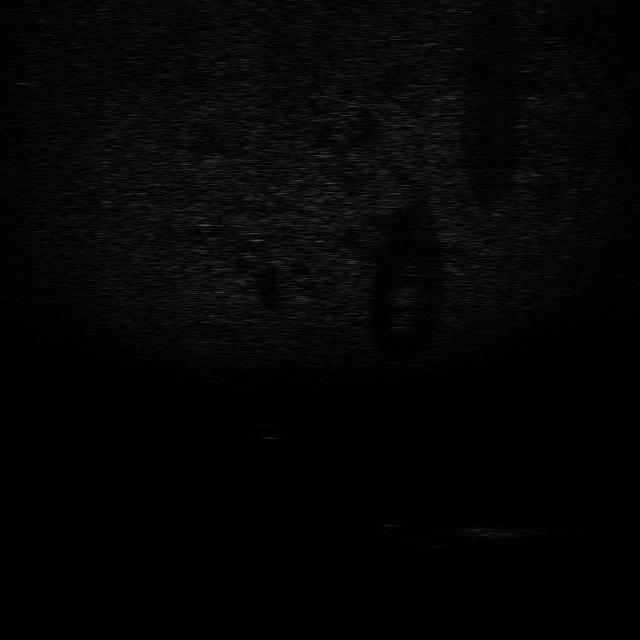ball: (249, 419, 289, 442)
metal bucket: (454, 526, 546, 547)
tyre: (369, 520, 450, 551)
